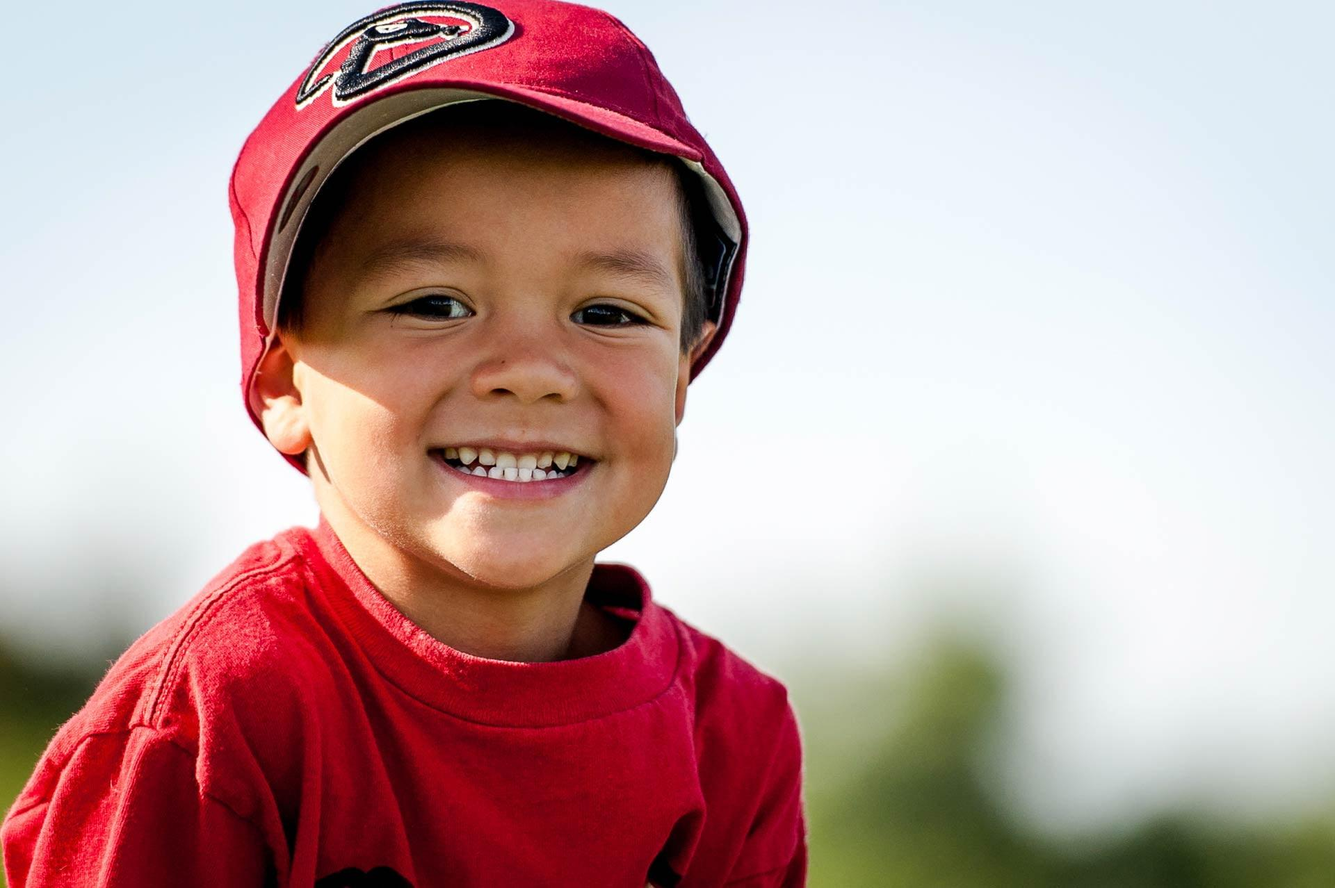cap: (213, 0, 836, 398)
